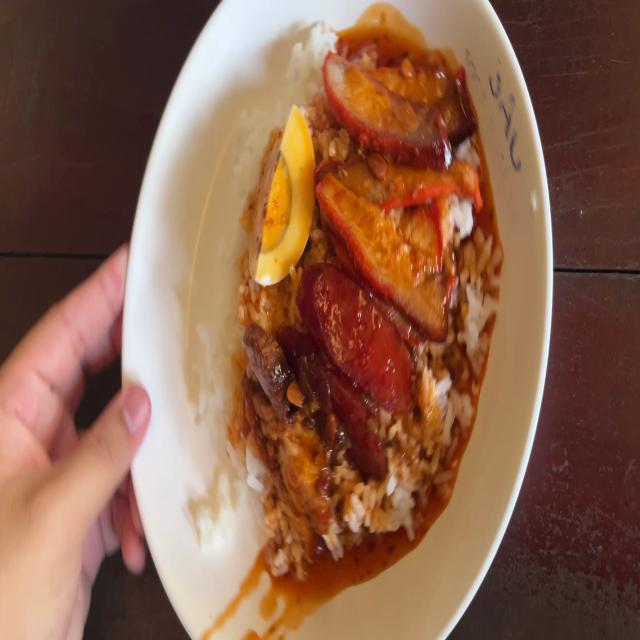red_pork_and_crispy_pork: (250, 114, 316, 280)
stir_fried_basil: (302, 266, 414, 466)
